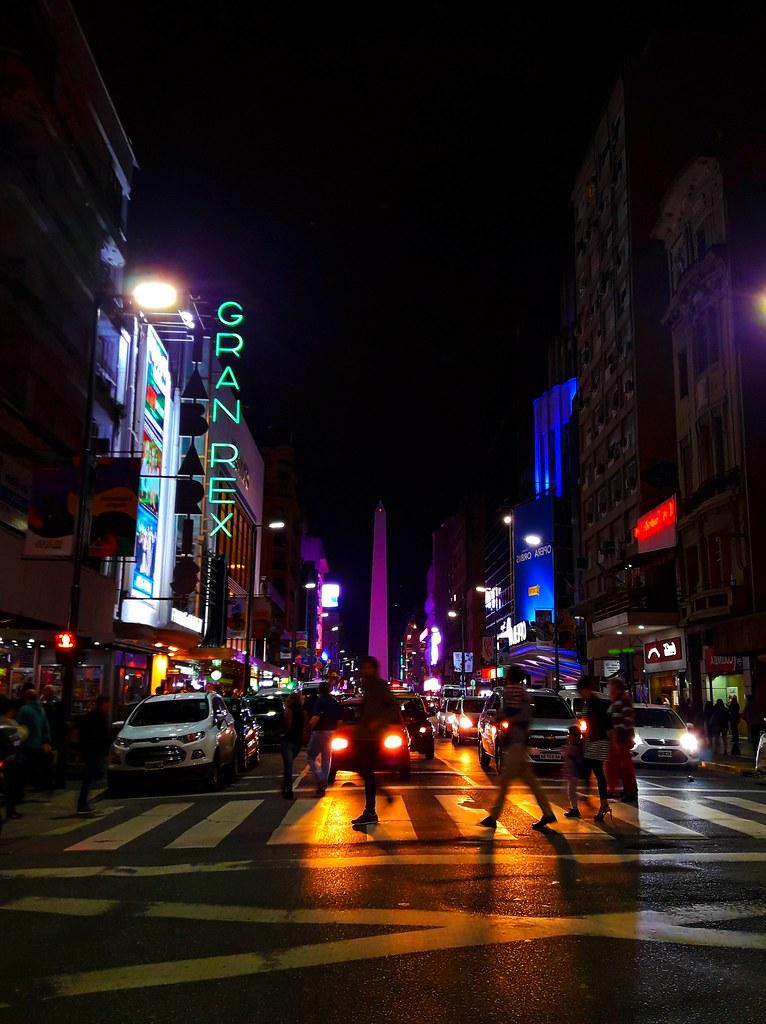car: (101, 691, 245, 791), (601, 698, 711, 788), (478, 692, 584, 781), (220, 690, 267, 781), (457, 695, 505, 744), (442, 697, 485, 745)
